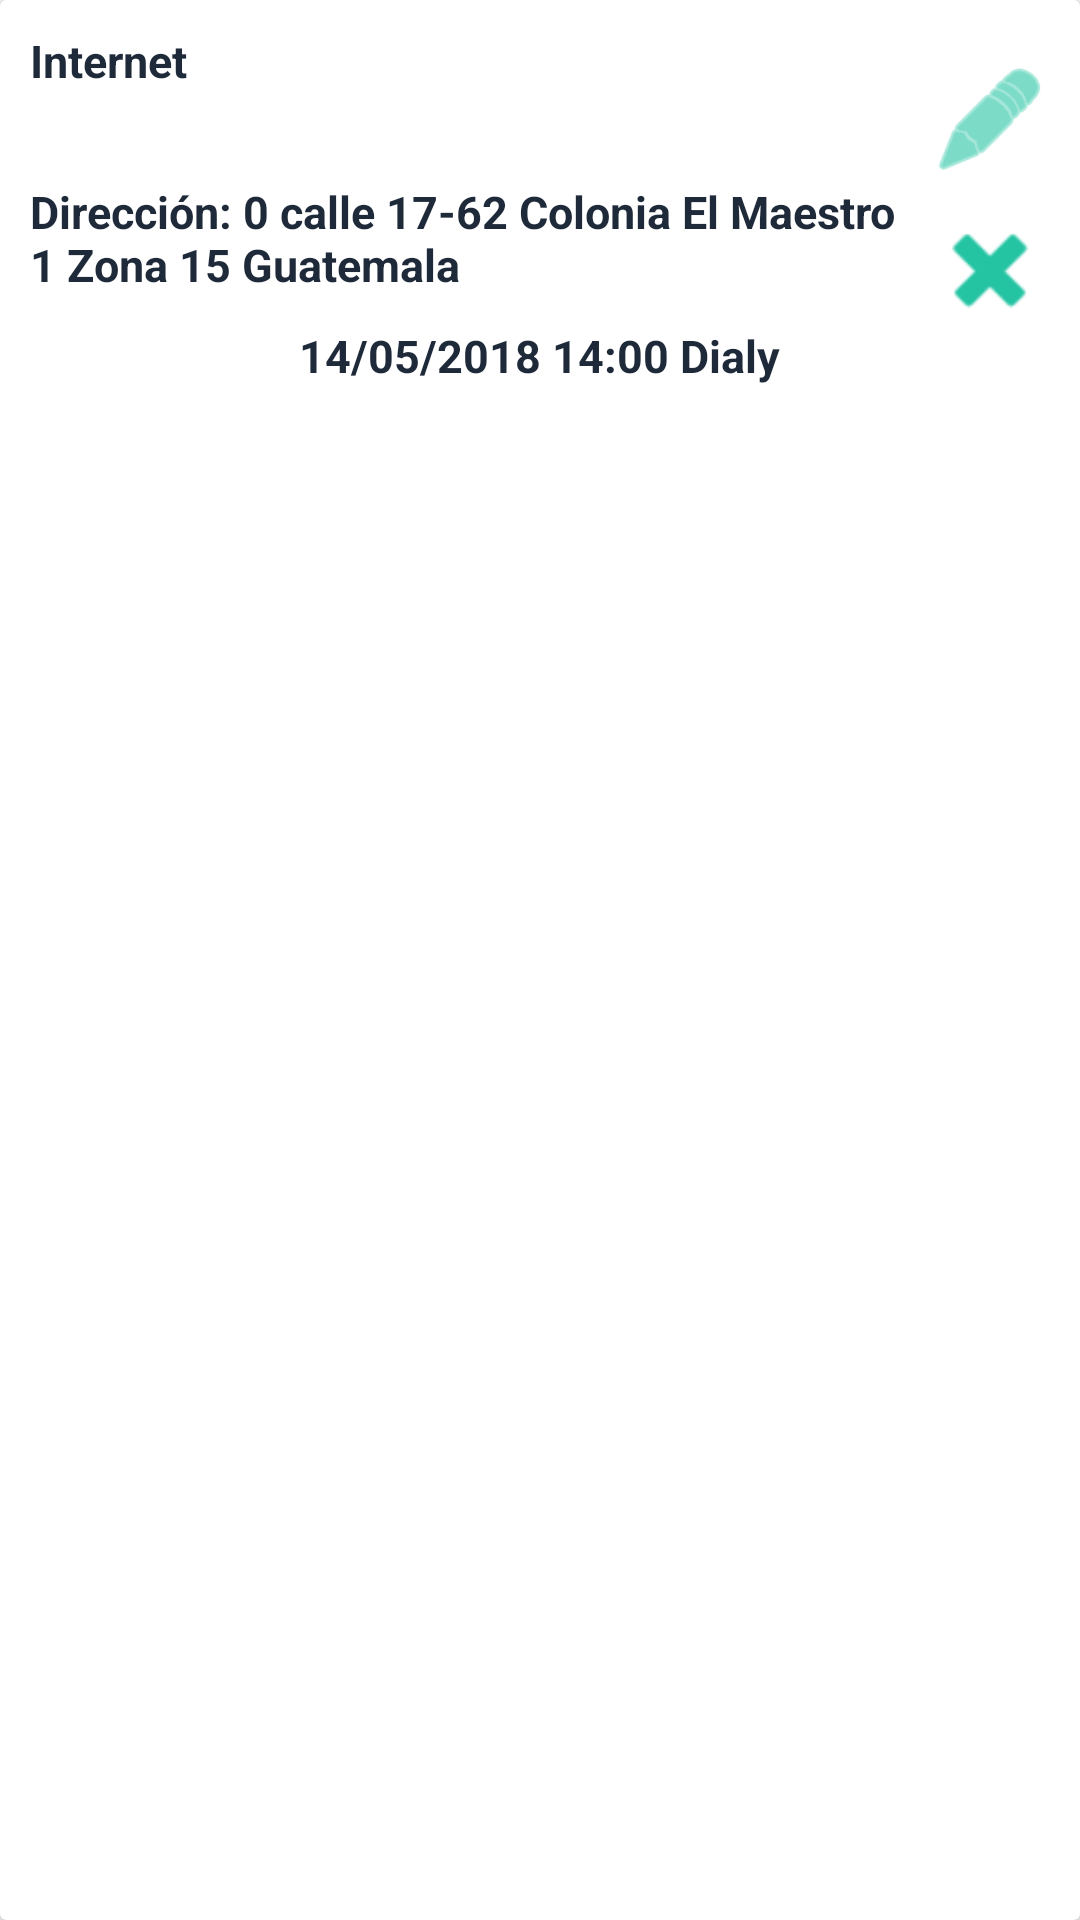

Point at icon controls on the screen. Image size 1080w x 1920h, points as point (x, y).
delete: point (990, 271)
edit: point (989, 119)
